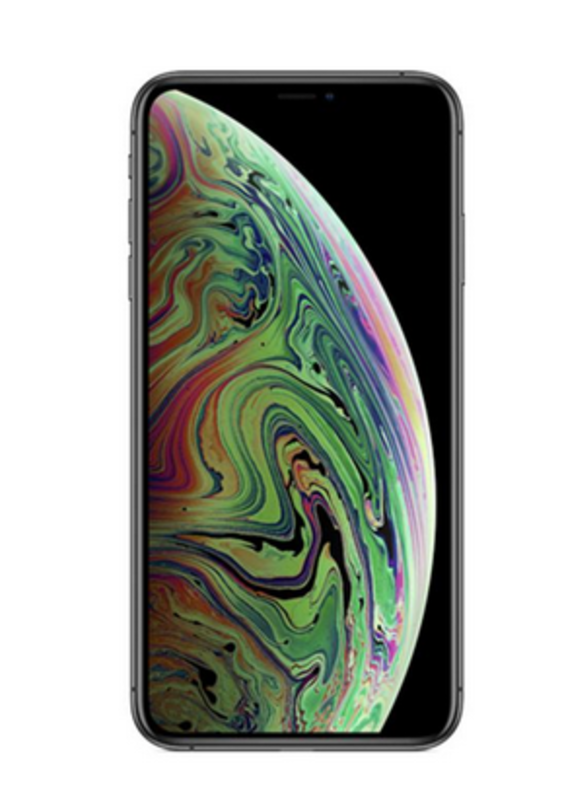Handphone: (123, 62, 474, 765)
